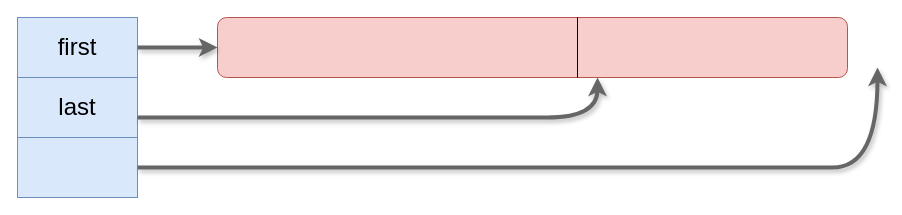
The diagram is 902 pixels wide and 215 high, and some of its shapes have lost their labels. The shapes that lost their labels are listed below. From the top down, each one's centre as x and y in pixels, then its label:
At point (532, 47): "使用中の部分 未使用の部分".
At point (77, 167): "cap".
